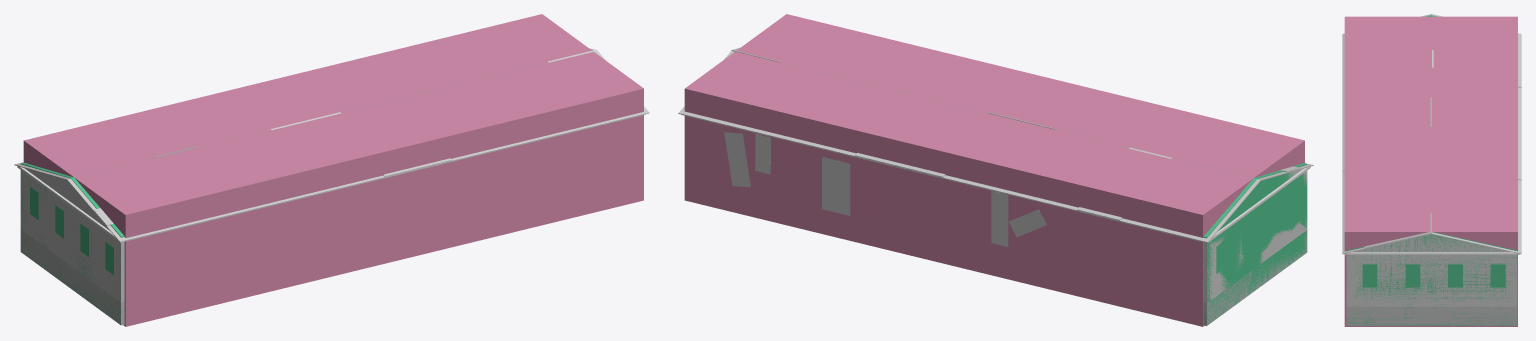
File: ind_bld_tin_01_blocker_a.dae
The picture shows the model from 3 angles, left to right: view 1: azimuth 30°, elevation 25°; view 2: azimuth 150°, elevation 25°; view 3: azimuth 270°, elevation 25°; orthographic projection. The views are drawn at different scales.
Visible parts, largest first — view 1: Untitled, ind_bld_a300, Colmesh-1; view 2: Untitled, ind_bld_a300, Colmesh-1; view 3: Untitled, ind_bld_a300, Colmesh-1.
Part boxes in pixels (bbox=[...]): Untitled: bbox=[23, 14, 643, 326]; ind_bld_a300: bbox=[14, 48, 649, 325]; Colmesh-1: bbox=[20, 162, 124, 324]; Untitled: bbox=[684, 14, 1304, 326]; ind_bld_a300: bbox=[678, 47, 1313, 325]; Colmesh-1: bbox=[1203, 163, 1307, 325]; Untitled: bbox=[1344, 16, 1517, 326]; ind_bld_a300: bbox=[1342, 14, 1521, 325]; Colmesh-1: bbox=[1346, 15, 1517, 325].
Bounding box in the file's own units: 24.34 × 8.4 × 4.93.
